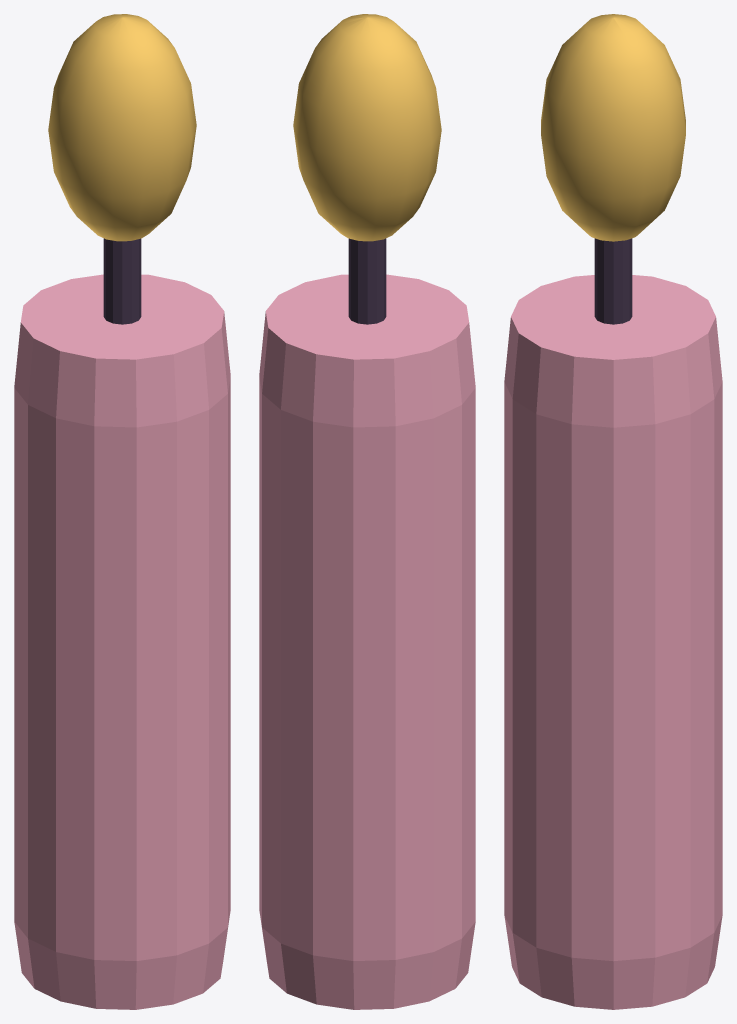
The model's file is birthday_candle.glb.
The picture shows the model from 3 angles, left to right: view 1: azimuth 30°, elevation 25°; view 2: azimuth 150°, elevation 25°; view 3: azimuth 270°, elevation 25°; orthographic projection.
Visible parts, largest first — view 1: model; view 2: model; view 3: model.
Boxes of the visible parts, x1,y1,x2,y2 form: model: [14, 14, 230, 1009]; model: [259, 14, 475, 1009]; model: [504, 14, 722, 1009].
Size of the model in its own units: 0.05 by 0.24 by 0.05.
